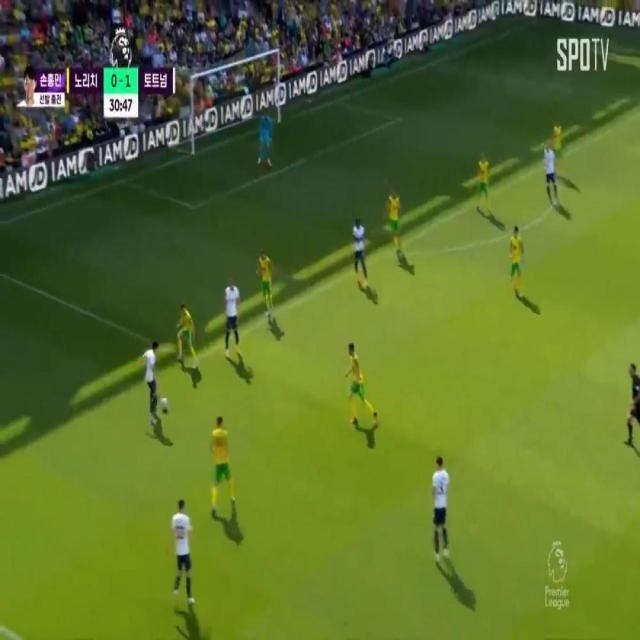ball: (157, 395, 173, 421)
goalkeeper: (250, 102, 282, 184)
player: (210, 409, 234, 514), (171, 498, 193, 598), (345, 339, 370, 424), (433, 450, 450, 562), (349, 216, 374, 284), (224, 275, 243, 357), (257, 252, 277, 320), (385, 189, 405, 255), (177, 295, 193, 366), (478, 153, 497, 212), (146, 334, 157, 423), (510, 226, 525, 286), (543, 143, 555, 198), (552, 119, 565, 165)
referee: (624, 358, 640, 453)
